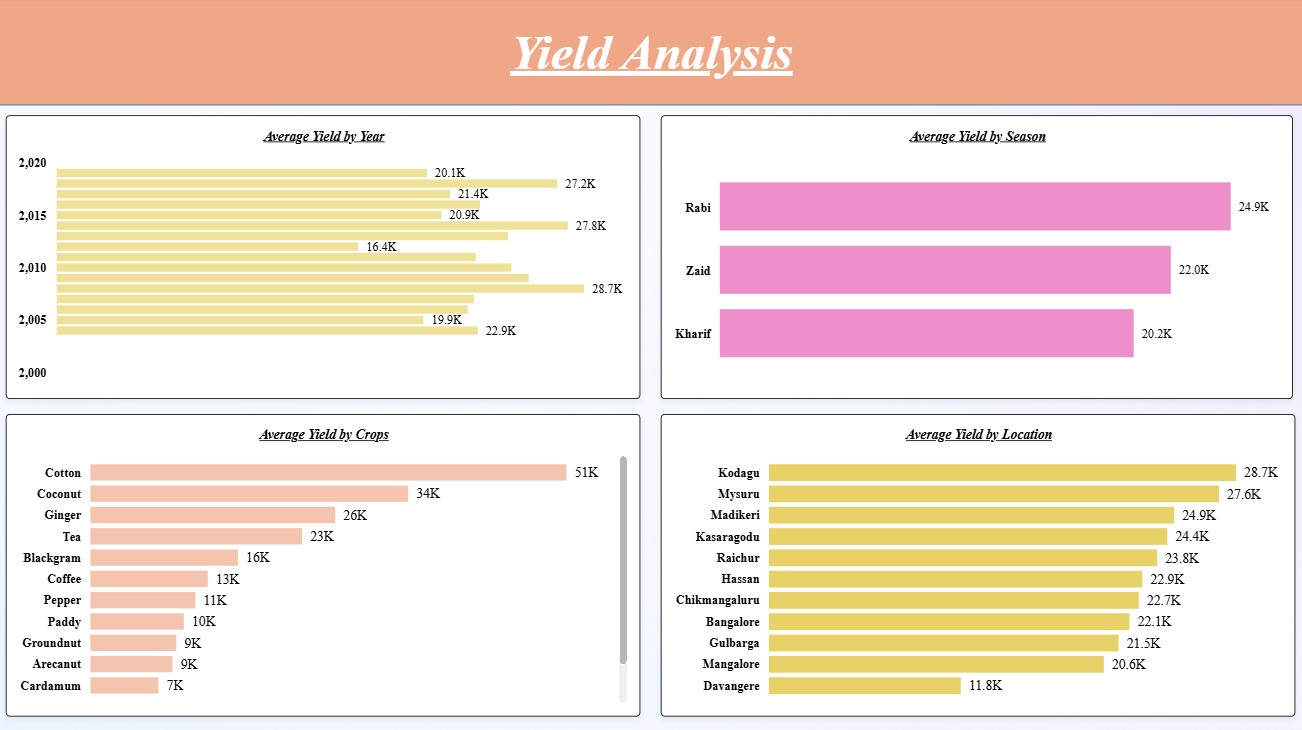

The dashboard page shown, as its layout file describes it:
{"tool":"powerbi","page":{"name":"Yield Analysis","canvas":[1280,720],"ordinal":3},"visuals":[{"type":"shape","box":[0,0,1280.3,104.3],"z":0},{"type":"barChart","title":"Average Yield by Year ","fields":{"Category":["AGRICULTURE.YEAR"],"Y":["Sum(AGRICULTURE.YEILDS)"]},"box":[8.6,113.7,621.2,277.6],"z":1000},{"type":"barChart","title":"Average Yield by Season","fields":{"Category":["AGRICULTURE.SEASON"],"Y":["Sum(AGRICULTURE.YEILDS)"]},"box":[649.3,113.7,618.8,277.6],"z":2000},{"type":"barChart","title":"Average Yield by Crops","fields":{"Category":["AGRICULTURE.CROPS"],"Y":["Sum(AGRICULTURE.YEILDS)"]},"box":[8.6,406,621.2,295.9],"z":3000},{"type":"barChart","title":"Average Yield by Location","fields":{"Category":["AGRICULTURE.LOCATION"],"Y":["Sum(AGRICULTURE.YEILDS)"]},"box":[649.3,406,621.2,295.9],"z":4000}]}

Visuals, with their boxes in screenshot pixels (x1, y1, x2, y2), scaled from the page's 1280x720 canvas onto the 1302x730 screenshot:
shape: crop(0, 0, 1301, 106)
"Average Yield by Year " barChart: crop(9, 115, 641, 397)
"Average Yield by Season" barChart: crop(660, 115, 1290, 397)
"Average Yield by Crops" barChart: crop(9, 412, 641, 712)
"Average Yield by Location" barChart: crop(660, 412, 1292, 712)
